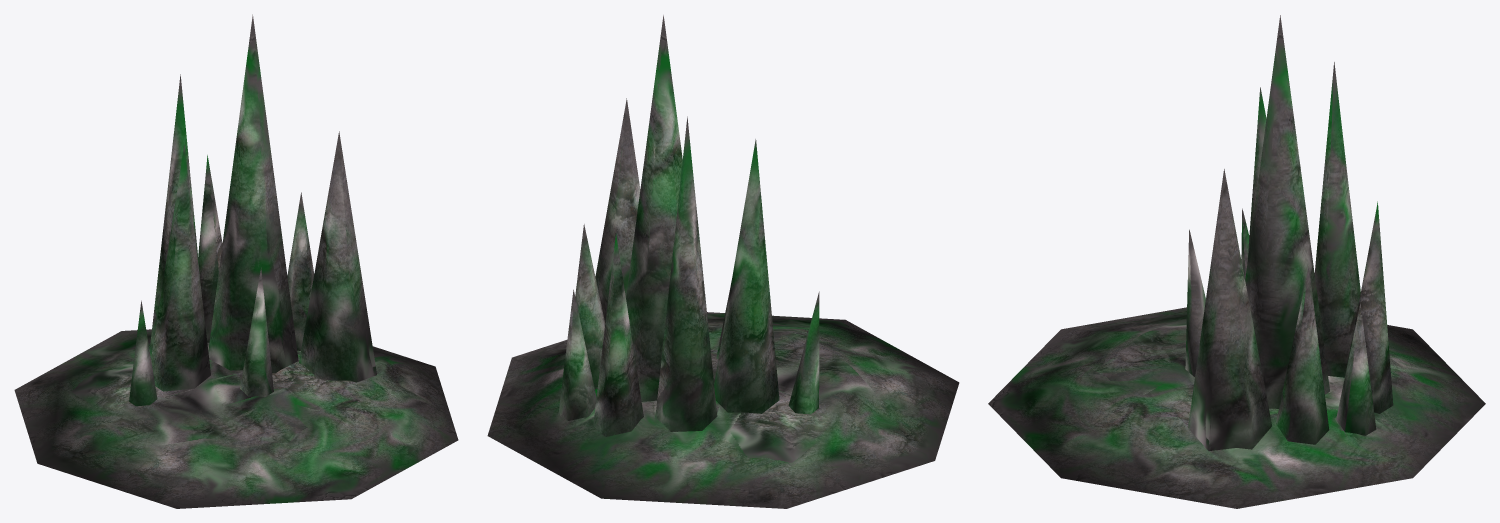
Rendered from stalactites3.fbx.
3 renders of one model, left to right at view 1: azimuth 30°, elevation 25°; view 2: azimuth 150°, elevation 25°; view 3: azimuth 270°, elevation 25°, orthographic. The views are drawn at different scales.
Parts seen in each view (by area): view 1: Cone.005; view 2: Cone.005; view 3: Cone.005.
Part boxes in pixels (x1,y1,x2,y2): Cone.005: (14,14,458,508); Cone.005: (487,15,959,508); Cone.005: (988,15,1485,508).
Size of the model in its own units: 192 by 179 by 192.
1 material, 1 textured.
